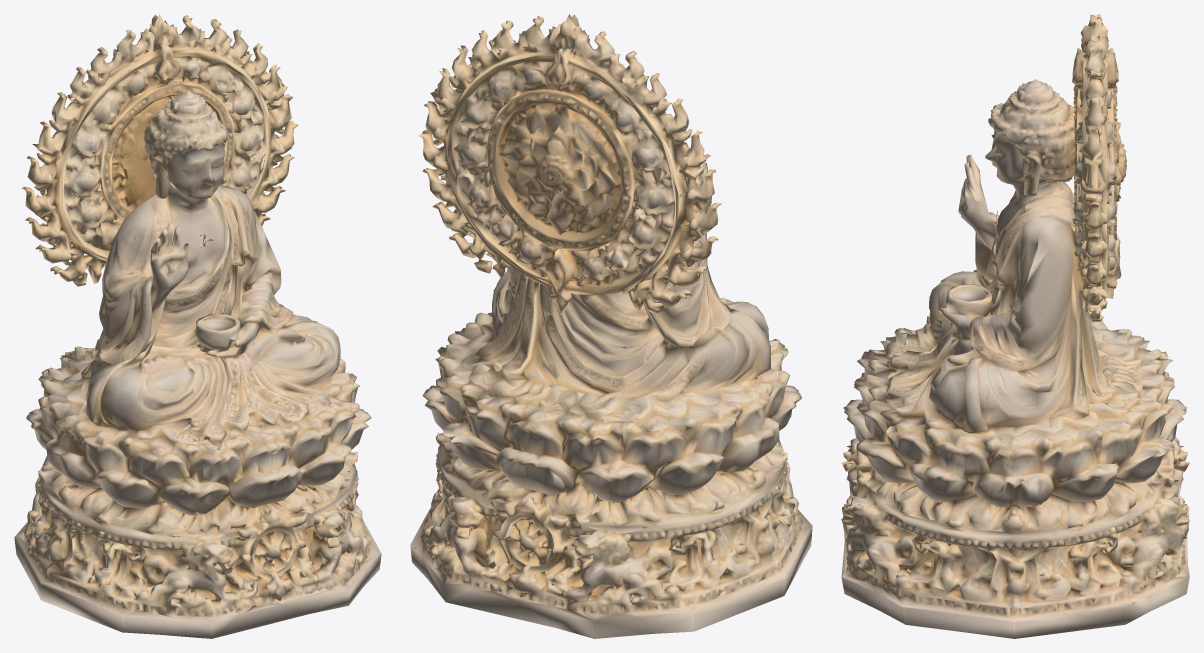
The picture shows the model from 3 angles, left to right: view 1: azimuth 30°, elevation 25°; view 2: azimuth 150°, elevation 25°; view 3: azimuth 270°, elevation 25°; orthographic projection. The views are drawn at different scales.
Parts seen in each view (by area): view 1: four-heavenly-kings-03; view 2: four-heavenly-kings-03; view 3: four-heavenly-kings-03.
Part boxes in pixels (box(x1,y1,x2,y2)): four-heavenly-kings-03: box(14, 14, 381, 638); four-heavenly-kings-03: box(410, 14, 812, 638); four-heavenly-kings-03: box(841, 14, 1189, 638).
Size of the model in its own units: 0.6356 by 1 by 0.5875.
Materials: 1 (1 with a texture image).
